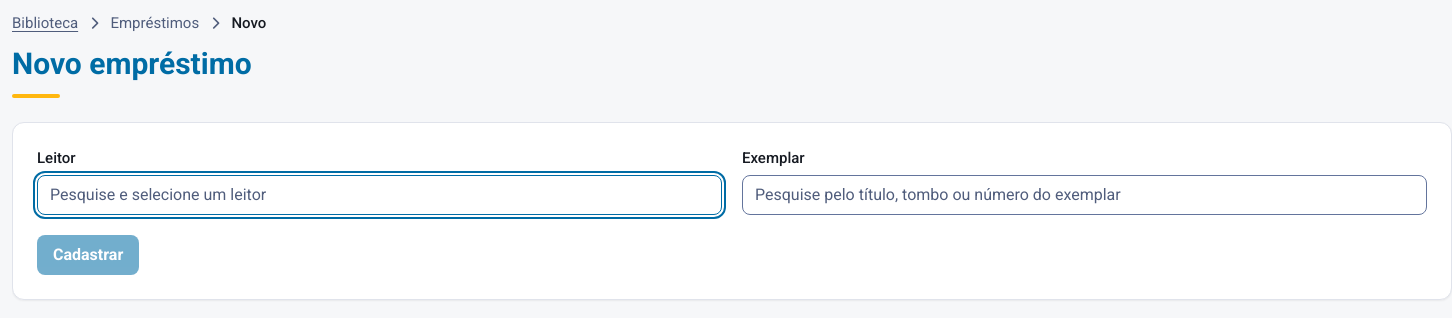
Test case: novo empréstimo autocomplete › distinguishes copies of the same book and enables submission after both selections
This screenshot has width=1452, height=318.
In the dropdown with id "leitor": (380, 195) [37,175,722,215], type "clicio"
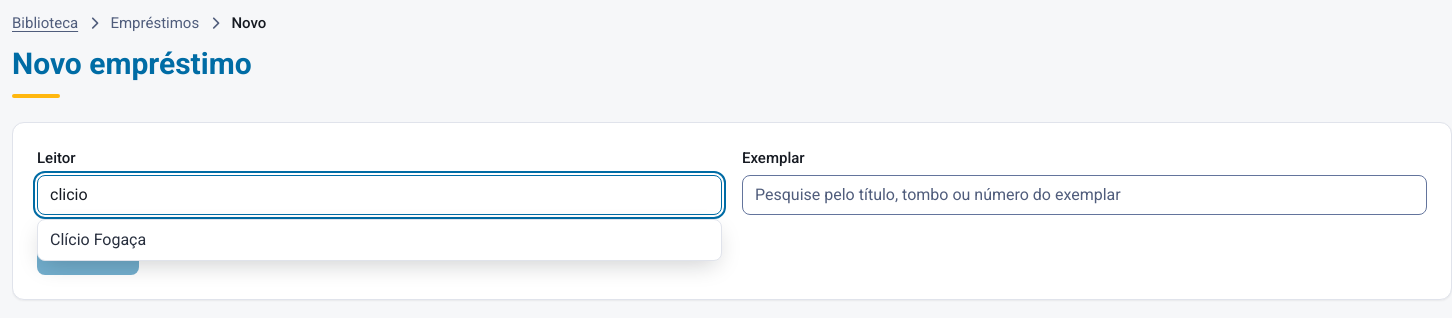
Click the option "Clício Fogaça": (98, 240) [38,220,721,260]
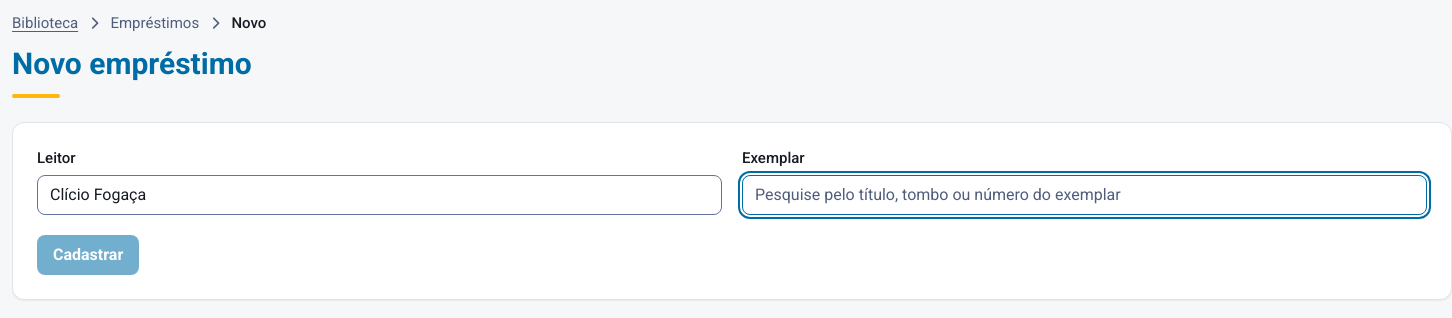
In the dropdown with id "exemplar": (1084, 195) [742,175,1427,215], type "EX:2"
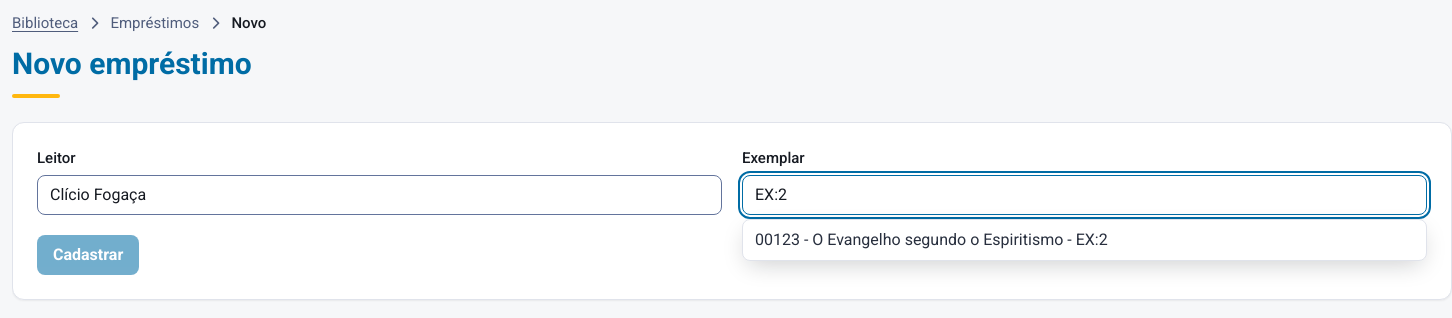
Click the option "00123 - O Evangelho segundo o Espiritismo - EX:2": (1084, 240) [743,220,1426,260]
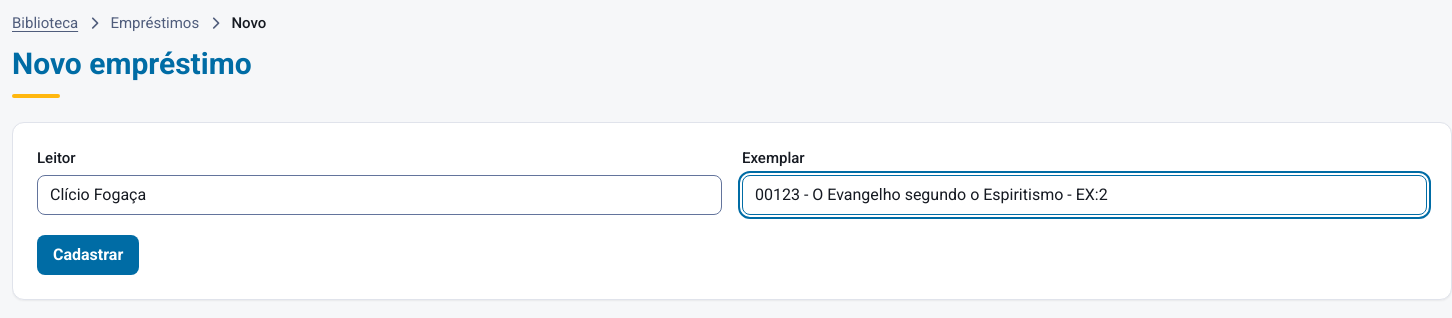
Check: the submit button is enabled, box [37,235,139,275]
